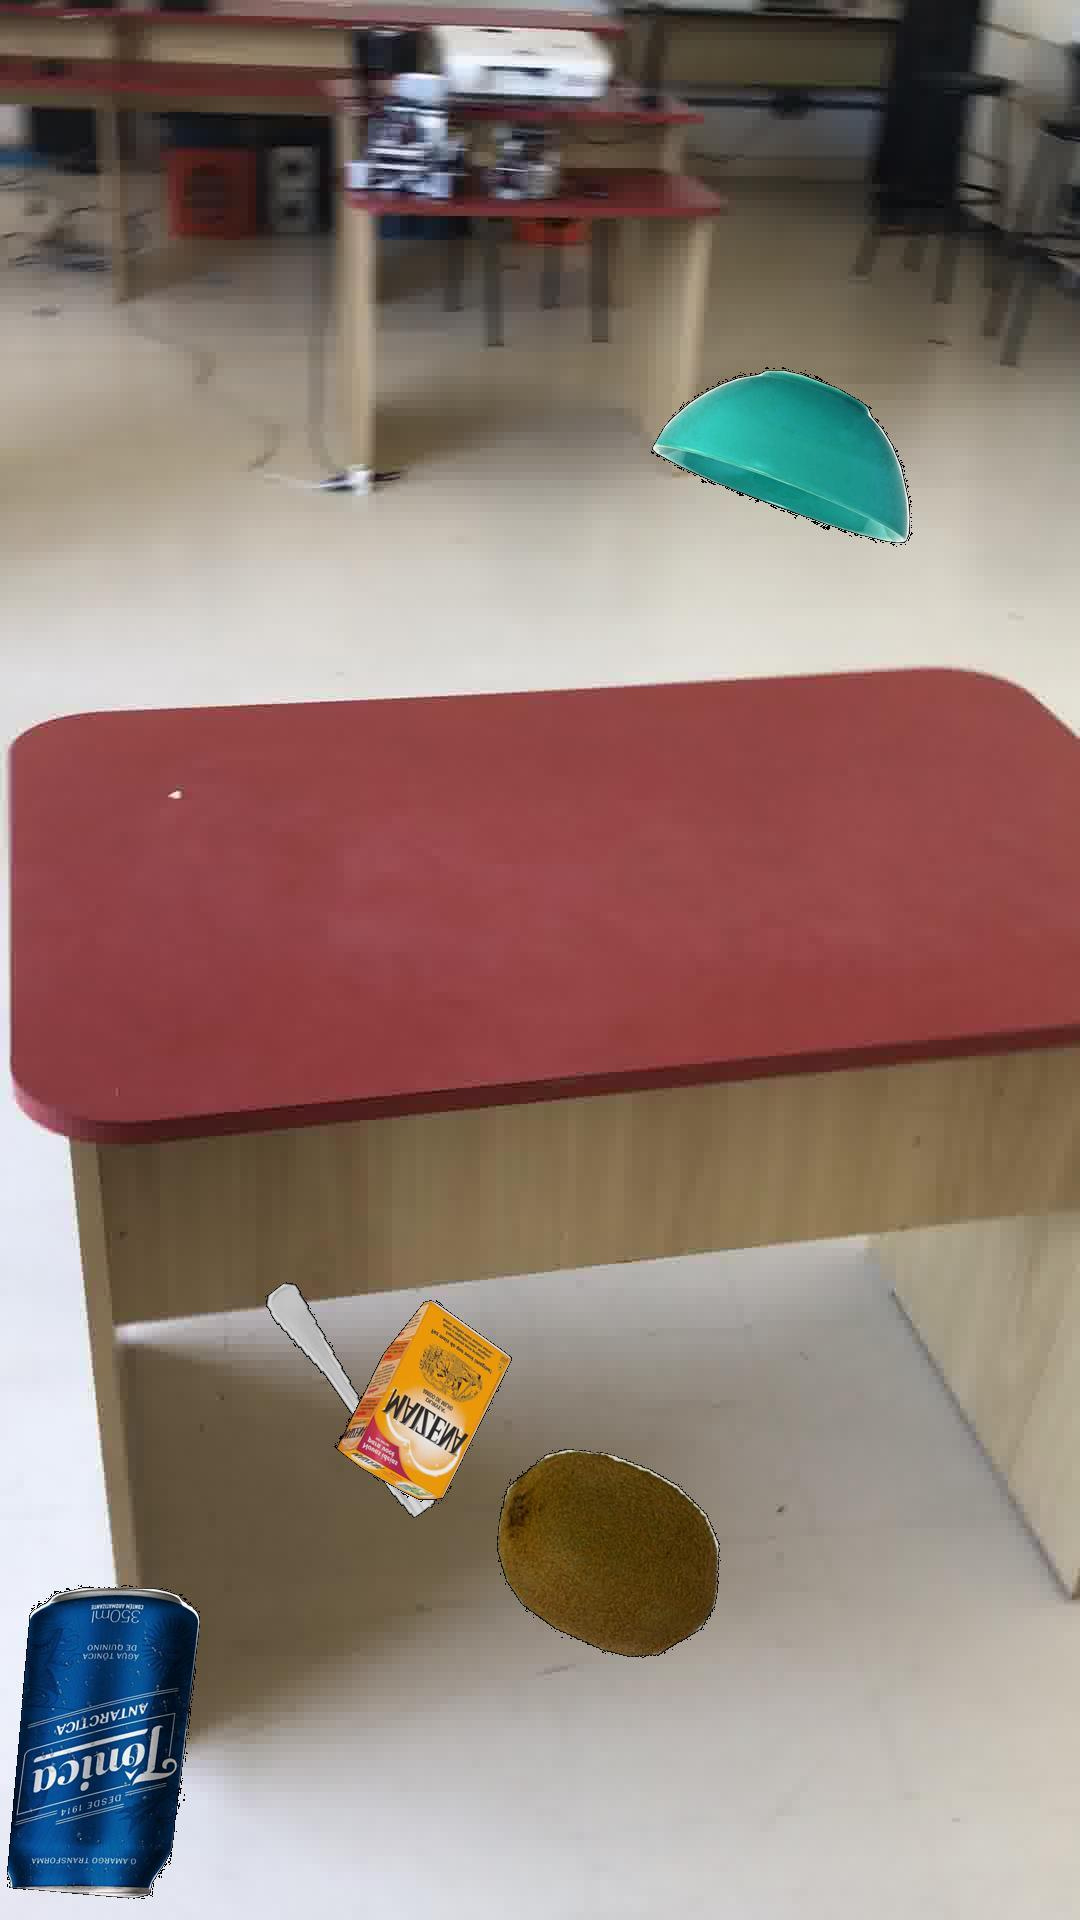bowl: (650, 368, 910, 542)
fork: (265, 1282, 435, 1516)
kiwi: (496, 1448, 719, 1655)
tonic: (5, 1585, 199, 1898)
